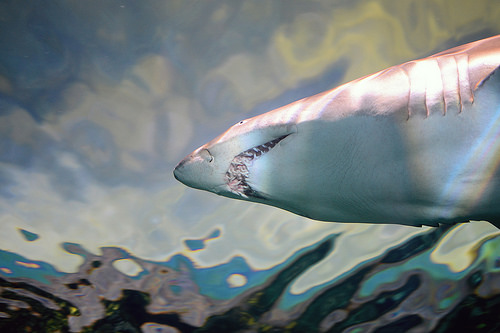shark: (151, 31, 498, 244)
